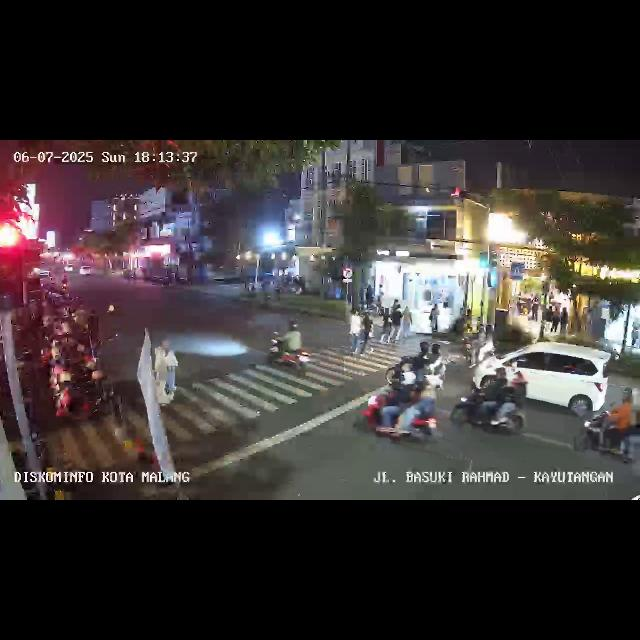car: (474, 343, 610, 417)
motorcycle: (360, 366, 442, 446), (449, 368, 526, 438), (582, 388, 640, 464), (386, 344, 446, 388), (267, 320, 311, 378), (462, 325, 494, 367)
person: (160, 340, 178, 400), (86, 311, 100, 365), (154, 347, 166, 405), (348, 310, 360, 356), (362, 312, 374, 353), (402, 306, 414, 340), (391, 304, 401, 344), (382, 305, 391, 345), (428, 303, 439, 335), (548, 302, 558, 336), (558, 304, 568, 334), (529, 298, 539, 322), (632, 325, 640, 351), (390, 298, 400, 314), (378, 284, 384, 300)
